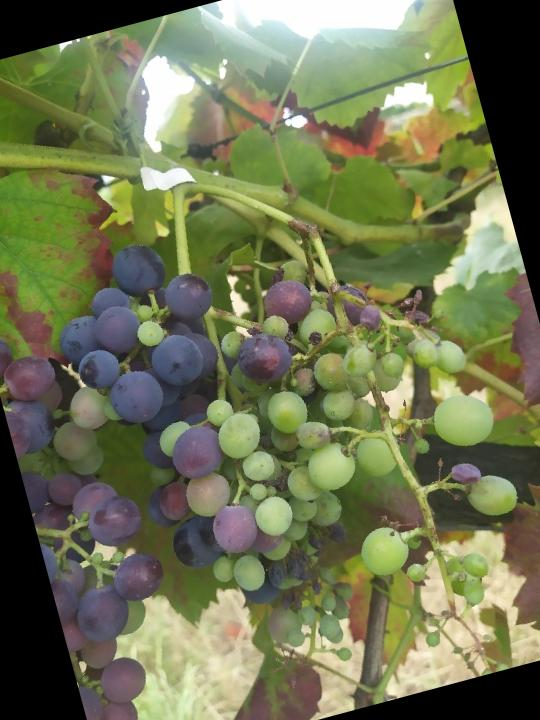grape: (33, 203, 372, 659), (251, 211, 540, 670)
